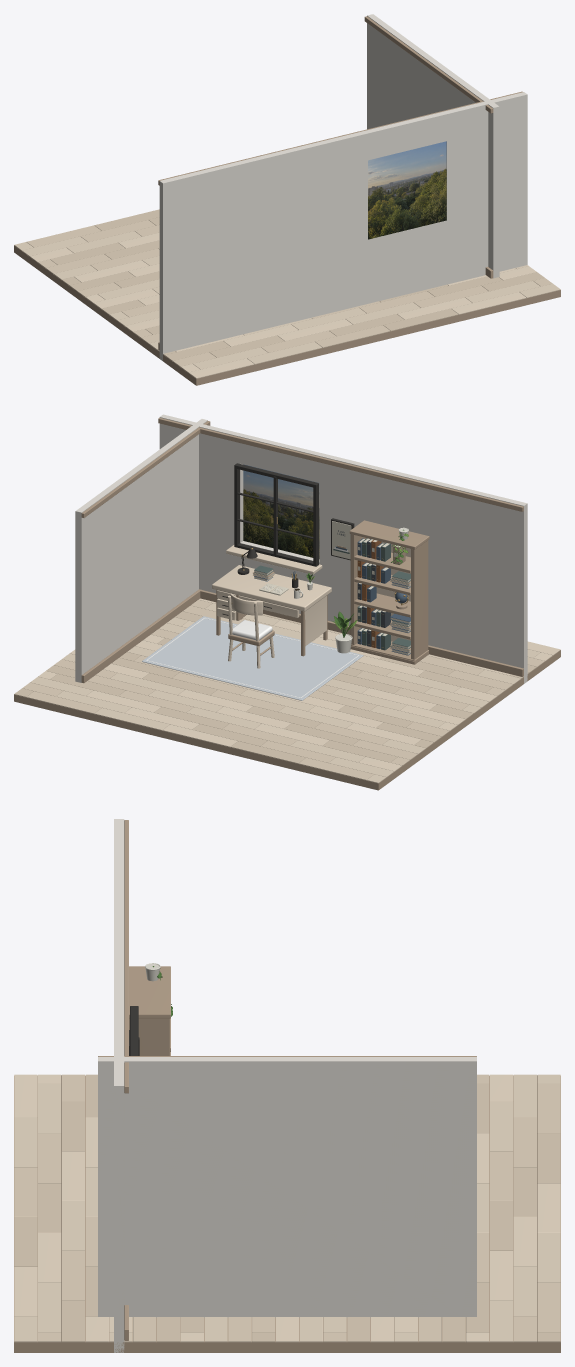
The model's file is Room.fbx.
3 renders of one model, top to bottom at view 1: azimuth 30°, elevation 25°; view 2: azimuth 150°, elevation 25°; view 3: azimuth 270°, elevation 25°, orthographic. The views are drawn at different scales.
Visible parts, largest first — view 1: Room_Plaster, Room_Wood_Floor0, Room_Sky, Room_Wood_Floor1, Room_Wood_Floor2, Room_Wood_Floor3, Room_Wood_Walnut; view 2: Room_Plaster, Room_Wood_Walnut, Room_Wood_Floor1, Room_Wood_Floor2, Room_Wood_Floor3, Room_Wood_Floor0, Room_Fabric_Rug, Room_Wood_Oak, Room_Sky, Room_BlackMetal, Room_Paper, Room_BookGreen (+5 smaller); view 3: Room_Plaster, Room_Wood_Floor2, Room_Wood_Floor1, Room_Wood_Floor0, Room_Wood_Walnut, Room_Wood_Floor3.
Part boxes in pixels (x1,y1,x2,y2): Room_Plaster: (159,14,527,360); Room_Wood_Floor0: (50,209,544,361); Room_Sky: (368,141,446,239); Room_Wood_Floor1: (26,220,552,366); Room_Wood_Floor2: (14,231,560,369); Room_Wood_Floor3: (30,232,536,378); Room_Wood_Walnut: (14,16,560,385); Room_Plaster: (75,414,527,683); Room_Wood_Walnut: (14,417,560,790); Room_Wood_Floor1: (22,600,544,780); Room_Wood_Floor2: (30,603,540,783); Room_Wood_Floor3: (38,598,560,771); Room_Wood_Floor0: (14,611,536,763); Room_Fabric_Rug: (142,616,363,700); Room_Wood_Oak: (212,538,410,668); Room_Sky: (243,464,319,558); Room_BlackMetal: (222,463,354,615); Room_Paper: (253,521,410,654); Room_BookGreen: (254,538,410,650); Room_Plaster: (98,819,476,1352); Room_Wood_Floor2: (14,1074,560,1342); Room_Wood_Floor1: (14,1074,560,1342); Room_Wood_Floor0: (14,1074,560,1342); Room_Wood_Walnut: (14,820,560,1352); Room_Wood_Floor3: (14,1074,560,1342).
Size of the model in its own units: 1500 by 700 by 1300.
